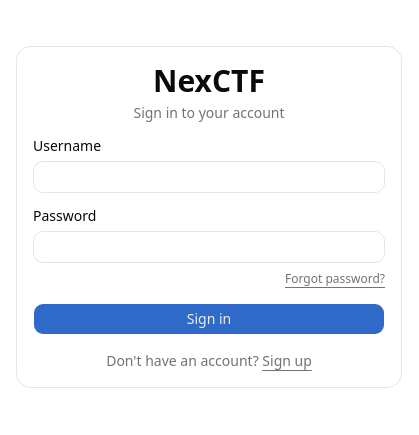
Test case: falls back to a generic message for non-API errors
Type "alice" into the field labelled "Username" at (209, 177), box [33,161,385,193]
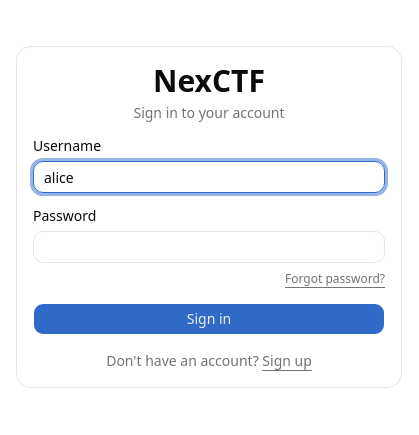
Type "hunter2" into the password field labelled "Password" at (209, 247), box [33,231,385,263]
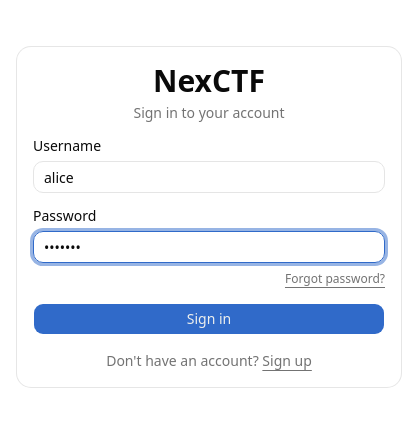
Click the button "Sign in" at (209, 319), box [33,303,385,335]
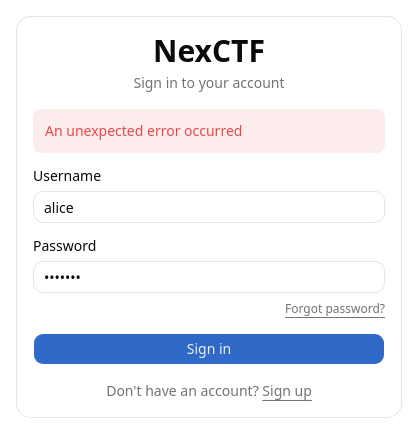
Now the text "An unexpected error occurred" is shown, box [33,109,385,153]
